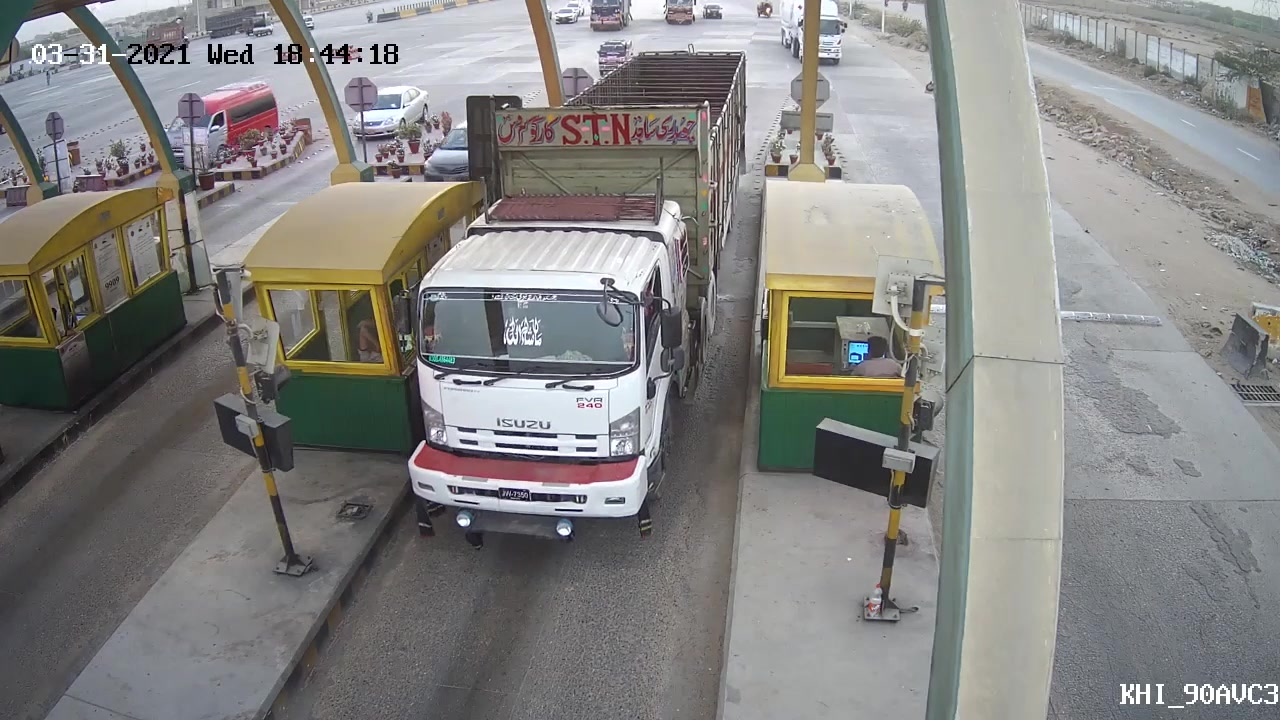F5: (382, 105, 736, 543)
